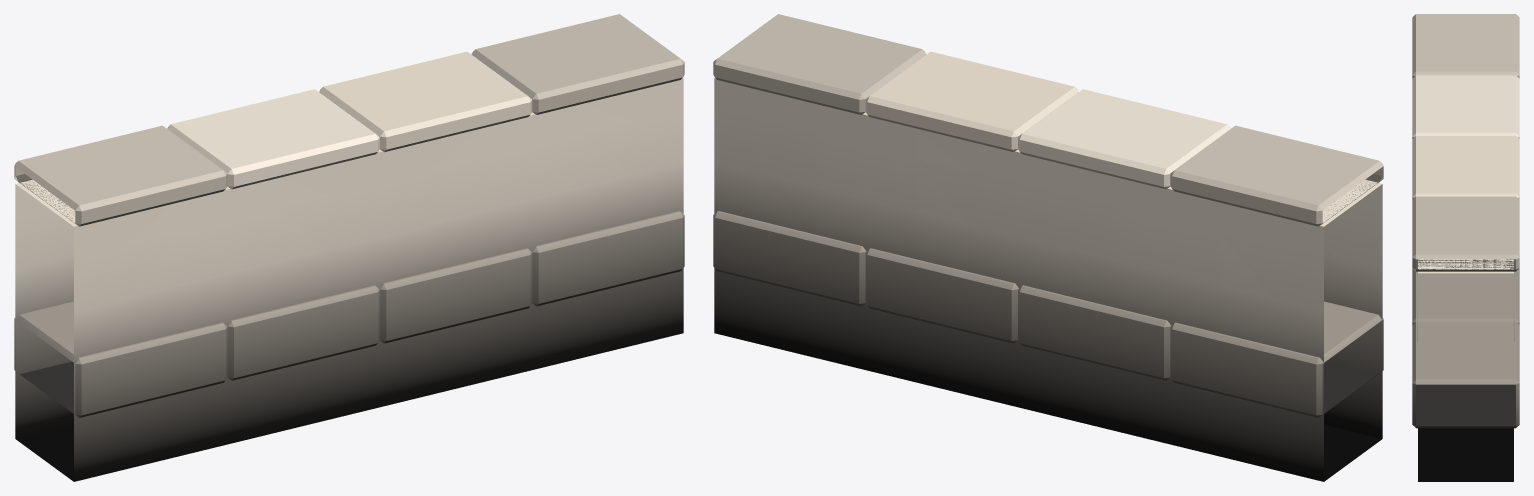
File: SM_VKI_Wall_Dwarf_Plain_300_Cut.fbx
3 views of the same model, side by side, from view 1: azimuth 30°, elevation 25°; view 2: azimuth 150°, elevation 25°; view 3: azimuth 270°, elevation 25° (orthographic). The views are drawn at different scales.
Visible parts, largest first — view 1: SM_VKI_Wall_Dwarf_Plain_300_Cut.001; view 2: SM_VKI_Wall_Dwarf_Plain_300_Cut.001; view 3: SM_VKI_Wall_Dwarf_Plain_300_Cut.001.
Boxes of the visible parts, left/top/right/bottom form: SM_VKI_Wall_Dwarf_Plain_300_Cut.001: left=14, top=14, right=684, bottom=481; SM_VKI_Wall_Dwarf_Plain_300_Cut.001: left=713, top=14, right=1383, bottom=481; SM_VKI_Wall_Dwarf_Plain_300_Cut.001: left=1412, top=14, right=1519, bottom=481.
Bounding box in the file's own units: 3 × 1.3 × 0.56.
